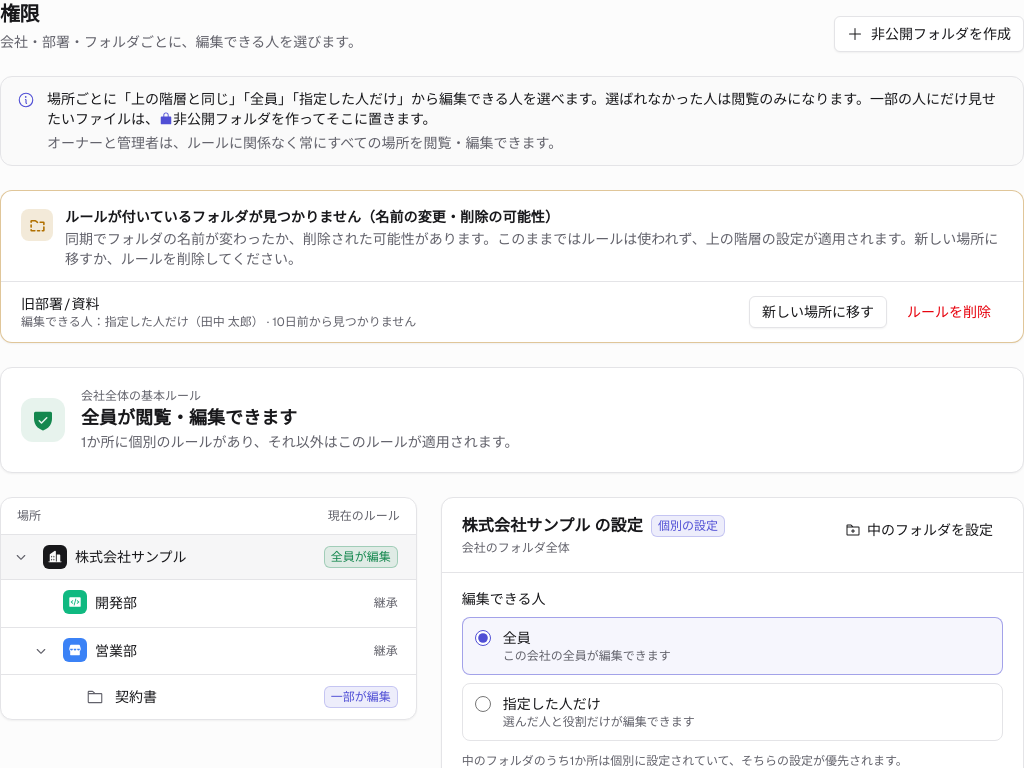
it: rules whose folder is missing (orphanedScopes) › 権限: the move dialog goes up when the old parent is gone too
Click the button "新しい場所に移す": x=818, y=312 [749,296,887,328]
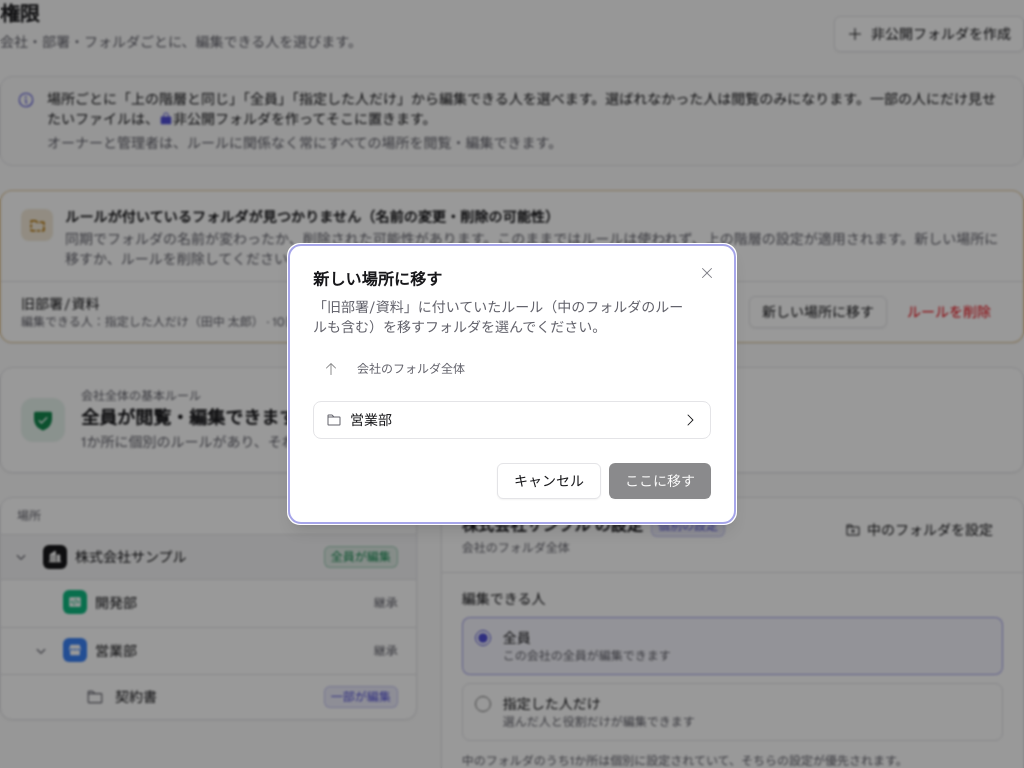
Check: the option "営業部" is enabled, box [314,402,670,438]
Check: the text "会社のフォルダ全体" is shown, box [357,361,465,377]
